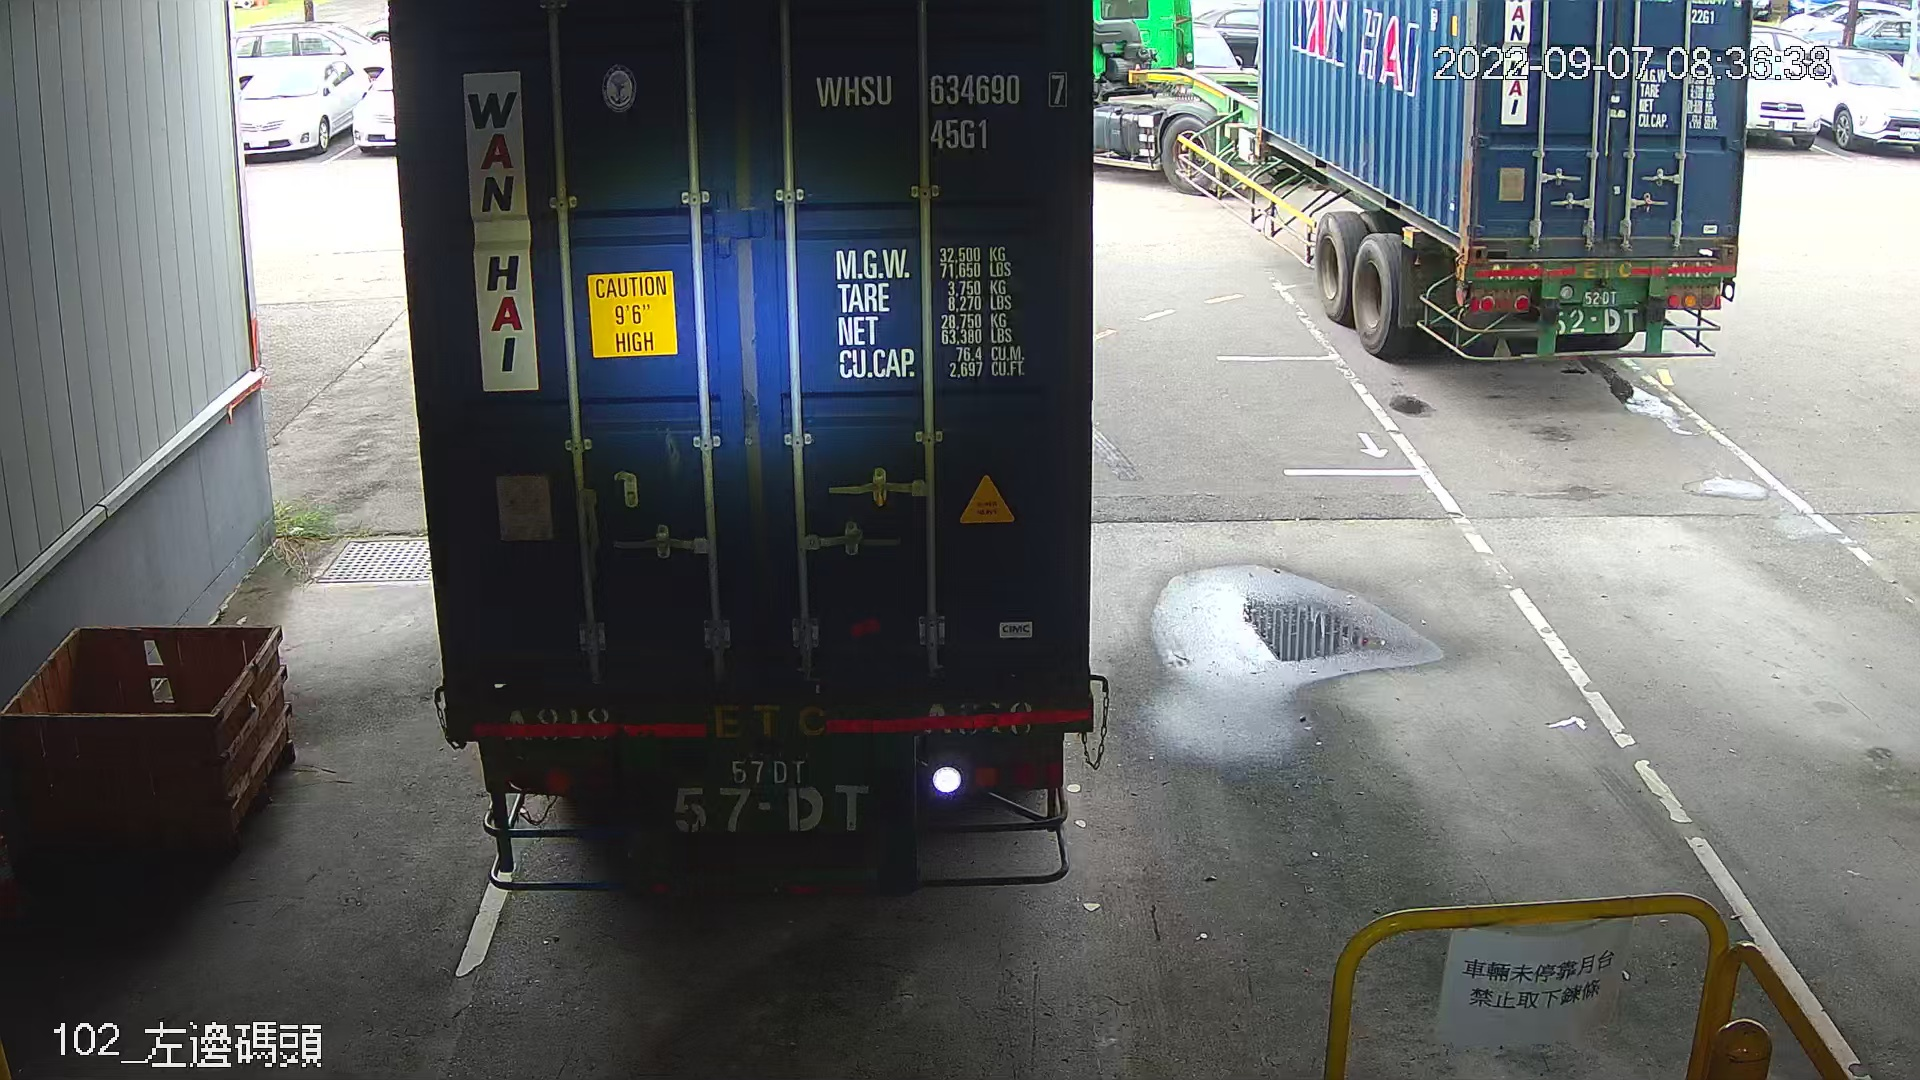container: (804, 61, 1075, 158)
